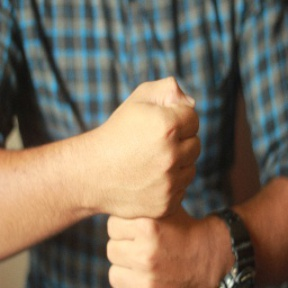G: (94, 76, 206, 288)
